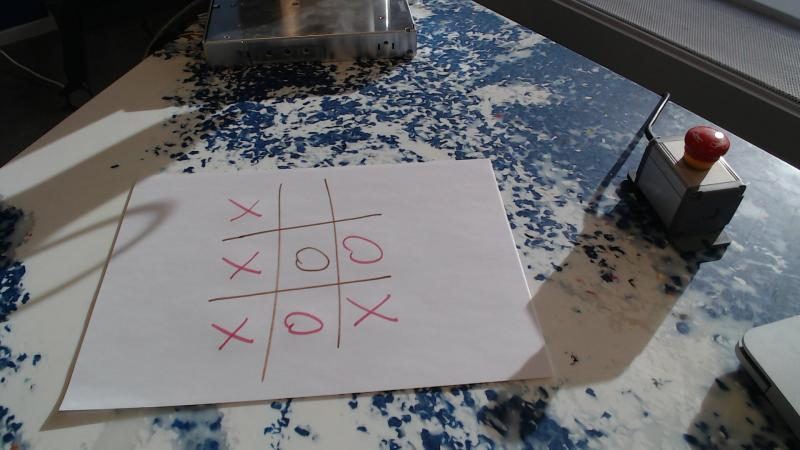O: (278, 299, 323, 342), (290, 235, 336, 275), (342, 228, 384, 267)
X: (344, 282, 394, 334), (211, 306, 256, 344), (223, 193, 270, 227), (225, 242, 266, 277)
grid: (220, 177, 394, 378)
